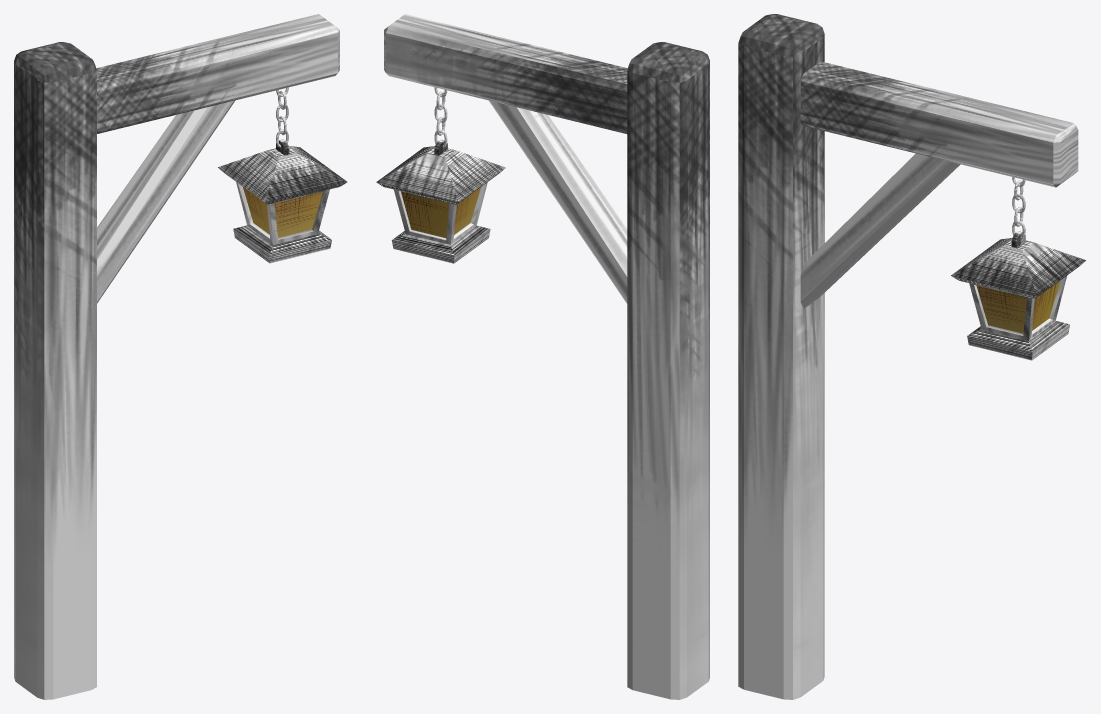
The model's file is Lamp.fbx.
3 views of the same model, side by side, from view 1: azimuth 30°, elevation 25°; view 2: azimuth 150°, elevation 25°; view 3: azimuth 330°, elevation 25° (orthographic). The views are drawn at different scales.
Visible parts, largest first — view 1: Cube.003; view 2: Cube.003; view 3: Cube.003.
Part boxes in pixels (x1=…): Cube.003: x1=14, y1=14, x2=347, y2=699; Cube.003: x1=376, y1=14, x2=709, y2=699; Cube.003: x1=738, y1=14, x2=1085, y2=699.
Size of the model in its own units: 160 by 313 by 43.16.
